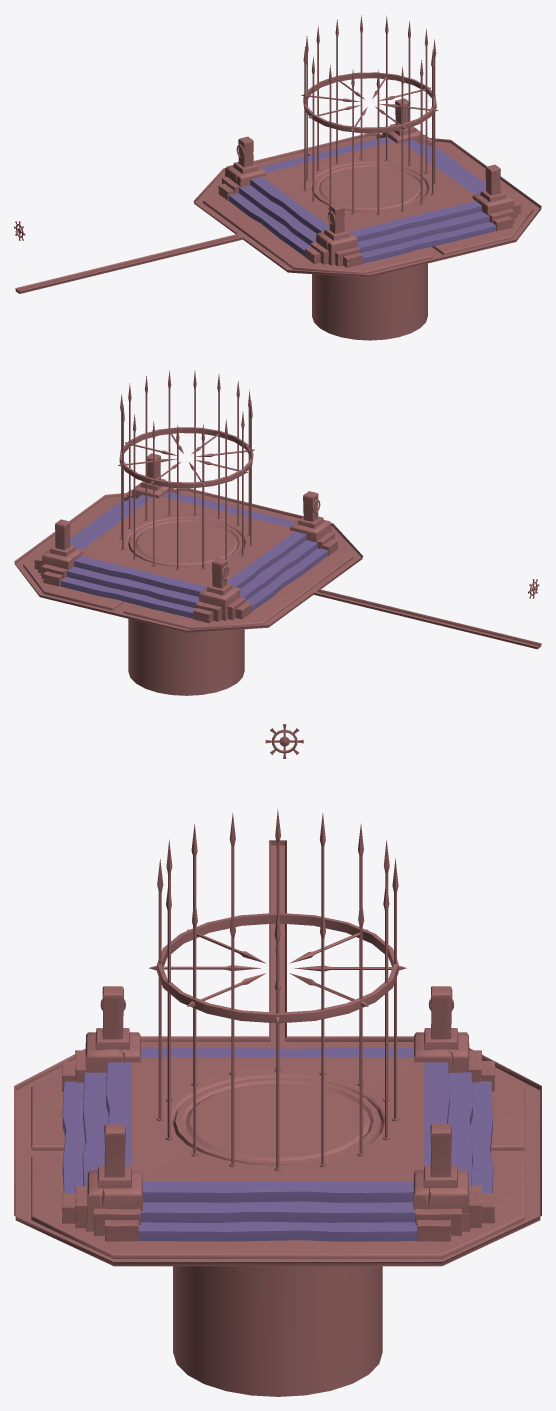
The model's file is cmc_puzzleasset.fbx.
3 views of the same model, one above another, from view 1: azimuth 30°, elevation 25°; view 2: azimuth 150°, elevation 25°; view 3: azimuth 270°, elevation 25° (orthographic). The views are drawn at different scales.
Visible parts, largest first — view 1: elevator_base, floor, spikes_01, stair_01 (×4), platform, stair_02 (×2), stair_03 (×2), spikes_rim; view 2: elevator_base, floor, spikes_01, stair_01 (×4), platform, stair_02 (×2), stair_03 (×2), spikes_rim; view 3: elevator_base, floor, platform, stair_01 (×4), spikes_01, stair_02 (×3), stair_03 (×3), spikes_rim.
Boxes of the visible parts, left/top/right/bottom form: elevator_base: left=218, top=98, right=521, bottom=340; floor: left=15, top=133, right=541, bottom=293; spikes_01: left=303, top=15, right=436, bottom=213; stair_01 (×4): left=250, top=137, right=482, bottom=241; platform: left=312, top=163, right=427, bottom=212; stair_02 (×2): left=239, top=185, right=489, bottom=252; stair_03 (×2): left=228, top=193, right=495, bottom=263; spikes_rim: left=301, top=72, right=438, bottom=133; elevator_base: left=34, top=453, right=337, bottom=695; floor: left=14, top=488, right=541, bottom=649; spikes_01: left=120, top=370, right=252, bottom=568; stair_01 (×4): left=73, top=492, right=306, bottom=596; platform: left=128, top=518, right=244, bottom=567; stair_02 (×2): left=67, top=540, right=317, bottom=608; stair_03 (×2): left=60, top=548, right=327, bottom=618; spikes_rim: left=117, top=427, right=254, bottom=488; elevator_base: left=62, top=986, right=494, bottom=1396; floor: left=14, top=840, right=541, bottom=1266; platform: left=173, top=1077, right=382, bottom=1165; stair_01 (×4): left=106, top=1047, right=449, bottom=1202; spikes_01: left=157, top=809, right=398, bottom=1168; stair_02 (×3): left=82, top=1072, right=472, bottom=1222; stair_03 (×3): left=62, top=1081, right=493, bottom=1241; spikes_rim: left=149, top=913, right=406, bottom=1023.
Size of the model in its own units: 100 by 54.8 by 52.99.
